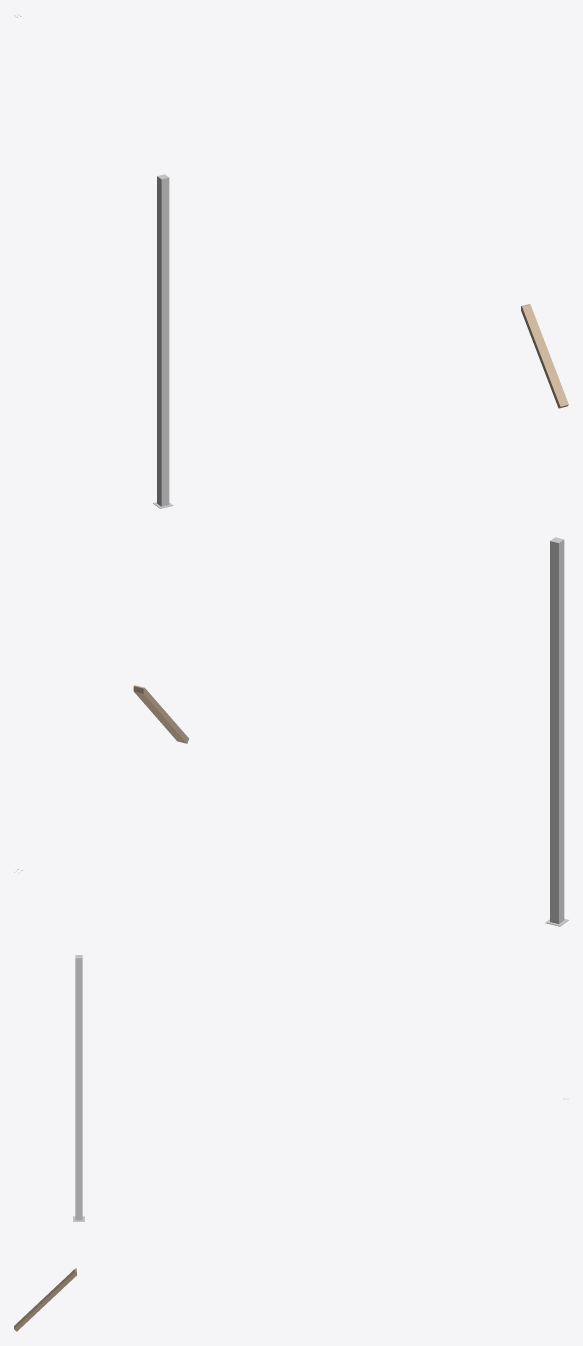
Rendered from 4 Module.glb.
The picture shows the model from 3 angles, top to bottom: view 1: azimuth 30°, elevation 25°; view 2: azimuth 150°, elevation 25°; view 3: azimuth 270°, elevation 25°; orthographic projection. The views are drawn at different scales.
Visible parts, largest first — view 1: Node172, Node171, Node158; view 2: Node173, Node171; view 3: Node174.
Part boxes in pixels (left/top/right/bottom): Node172: left=161, top=178, right=169, bottom=506; Node171: left=157, top=176, right=161, bottom=506; Node158: left=522, top=305, right=568, bottom=406; Node173: left=550, top=541, right=558, bottom=923; Node171: left=559, top=540, right=564, bottom=923; Node174: left=75, top=958, right=82, bottom=1220.
Size of what is drawn, in the model's own units: 171 by 144 by 275.
